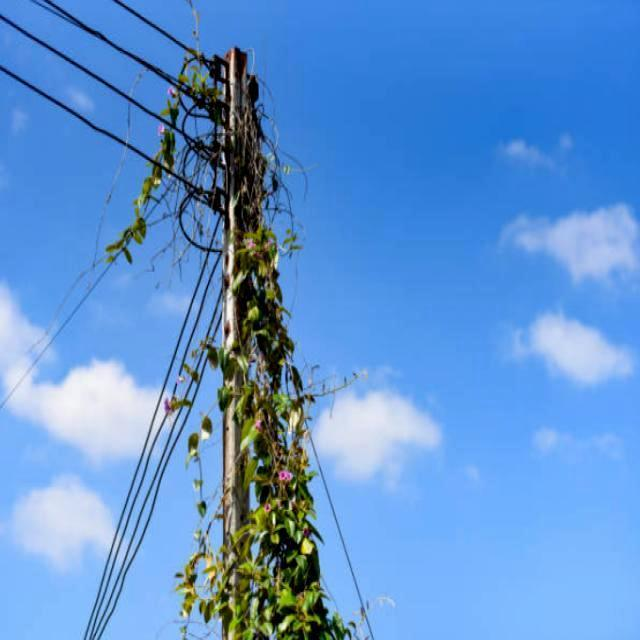critical vegetation: (124, 26, 353, 632)
